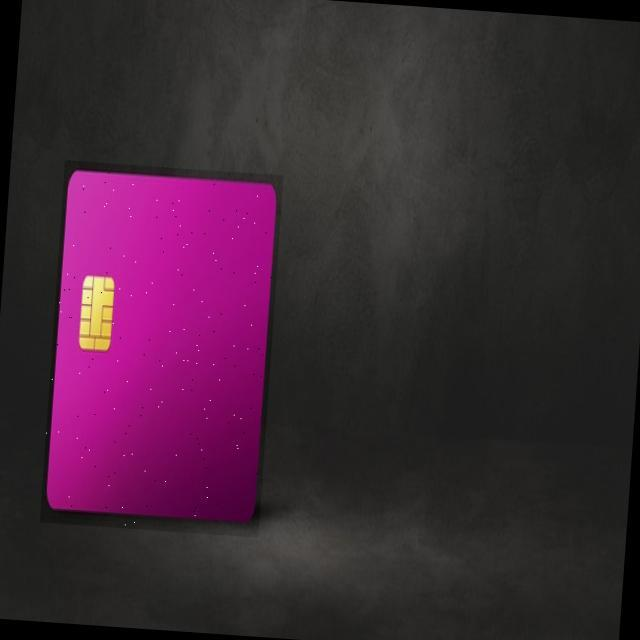payment_card: (44, 159, 281, 524)
